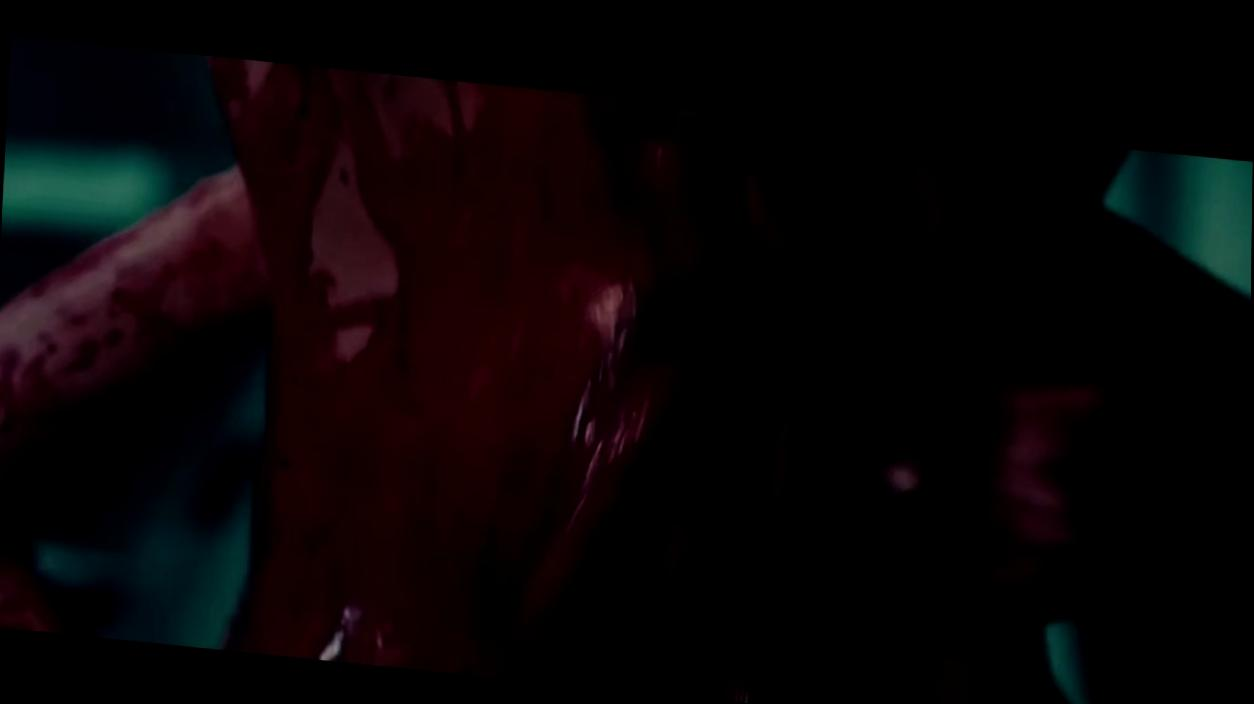Fire: (0, 54, 1126, 704)
